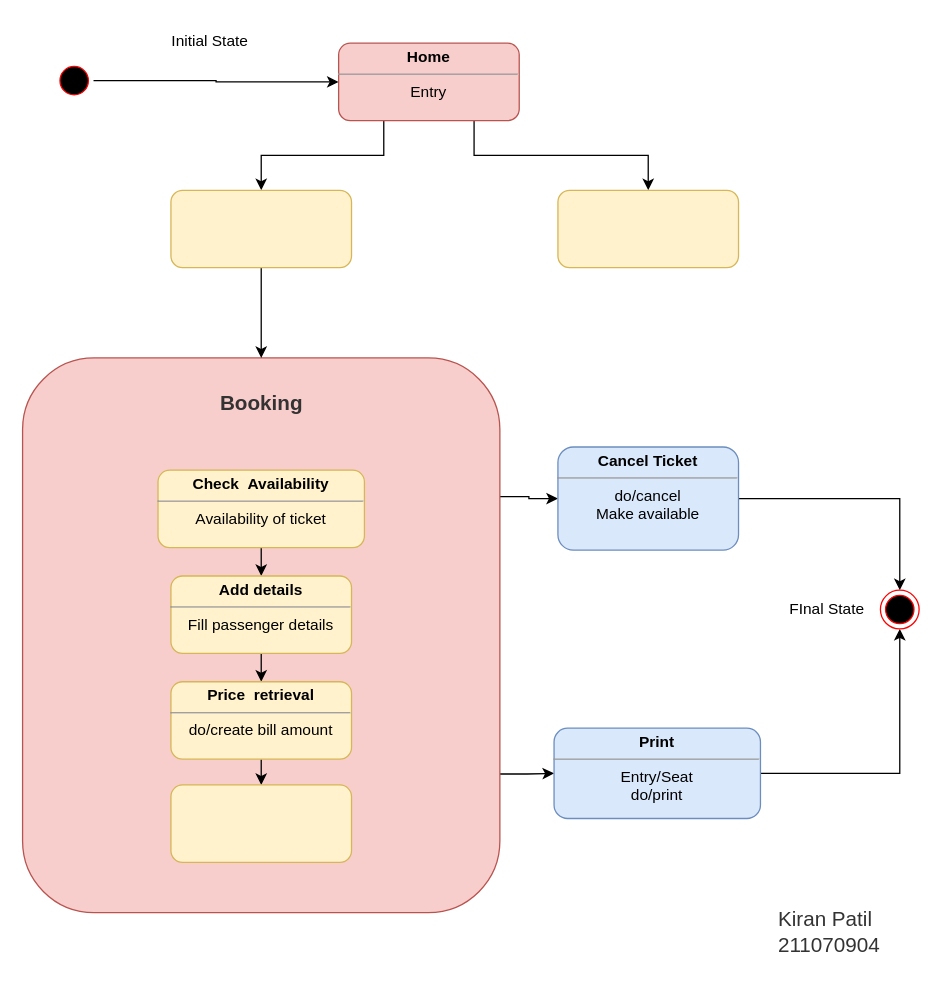
Some shapes in this 942 by 986 pixel diagram are drawn without their labels. Here are the shapes that lost their labels. From the top down, the box of each, then its label:
(170, 189, 352, 268): Login Entry/Home
(557, 189, 739, 268): Login Denie Exit
(170, 784, 352, 862): Payment do payment
